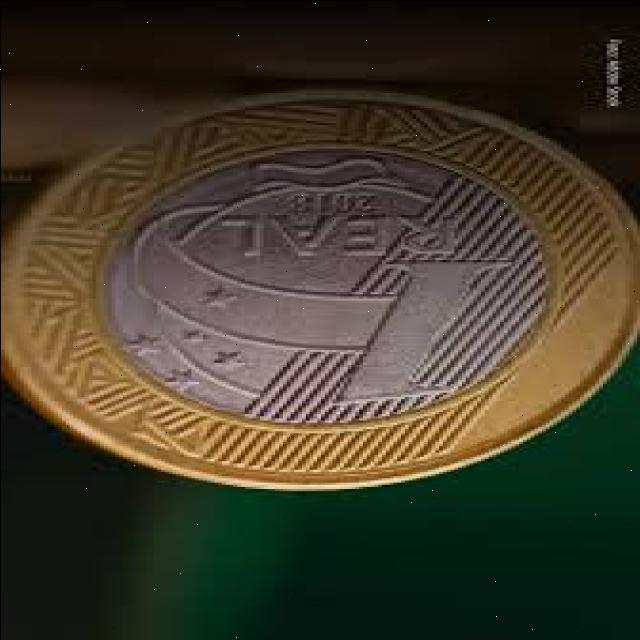1 real: (0, 72, 640, 484)
